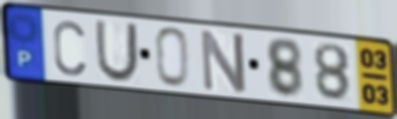0: (152, 24, 194, 90)
8: (264, 36, 306, 101), (311, 43, 353, 103)
C: (50, 17, 88, 78)
N: (198, 27, 249, 96)
U: (93, 19, 140, 85)
